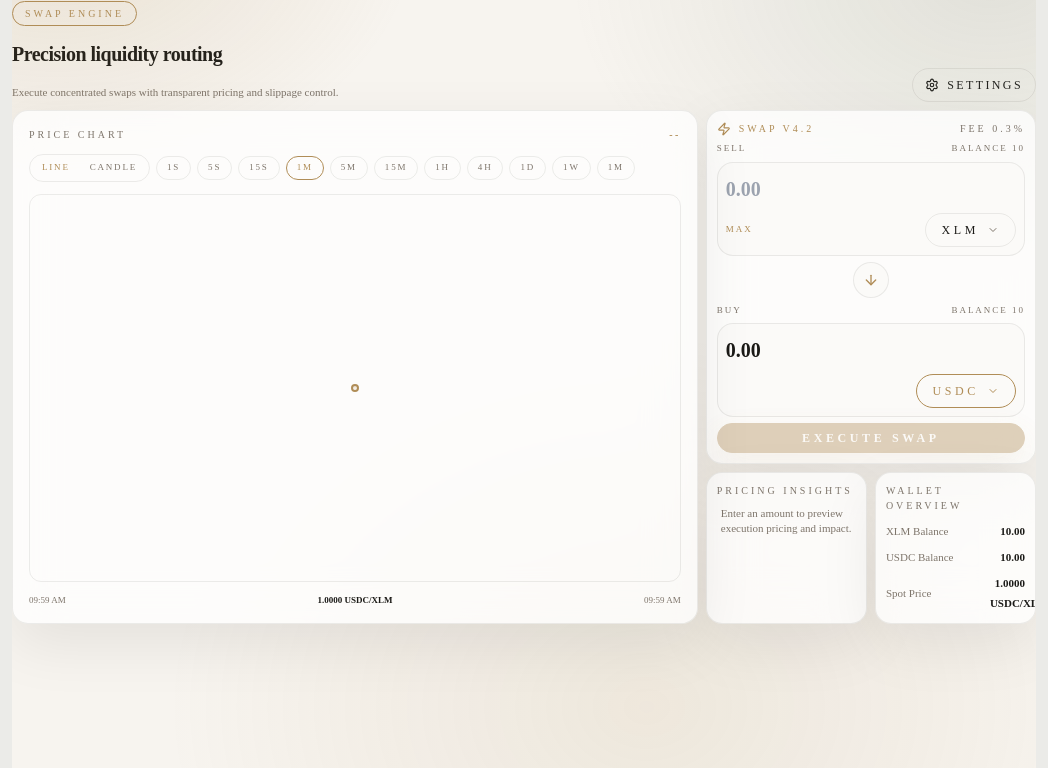
Test: SwapView › shows insufficient-data state in candle mode when live buckets are too few
Click the button "Candle": (113, 168) [80,157,147,178]
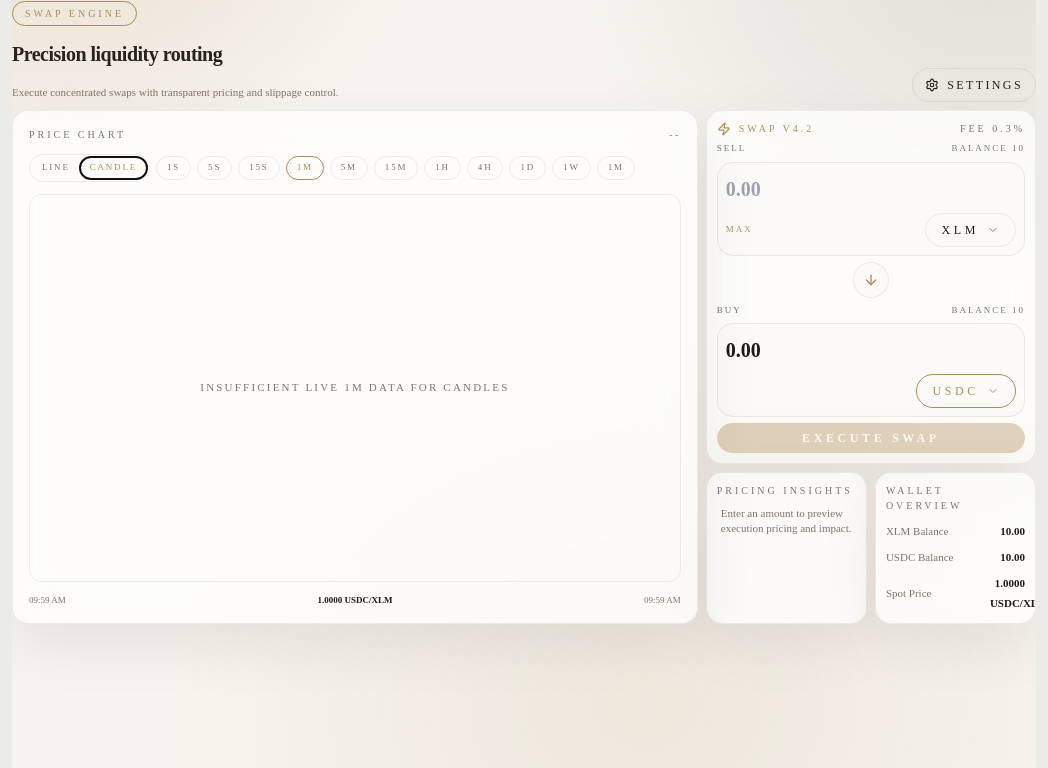
Expected: the text "Insufficient live 1m data for candles" is shown, [200,381,510,393]
